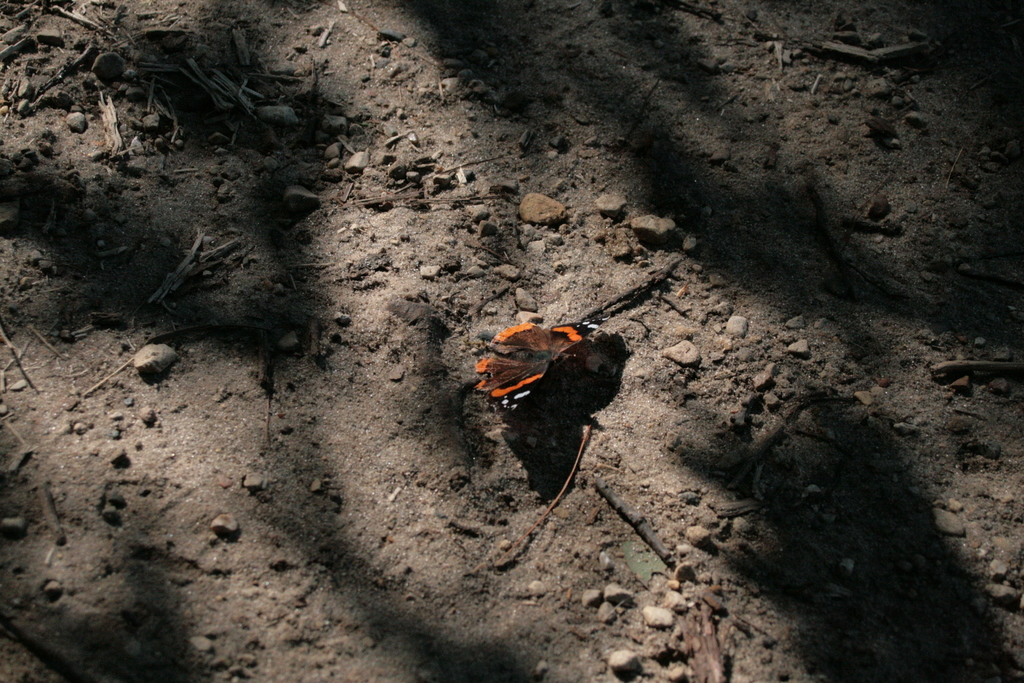Butterfly: (466, 296, 616, 428)
